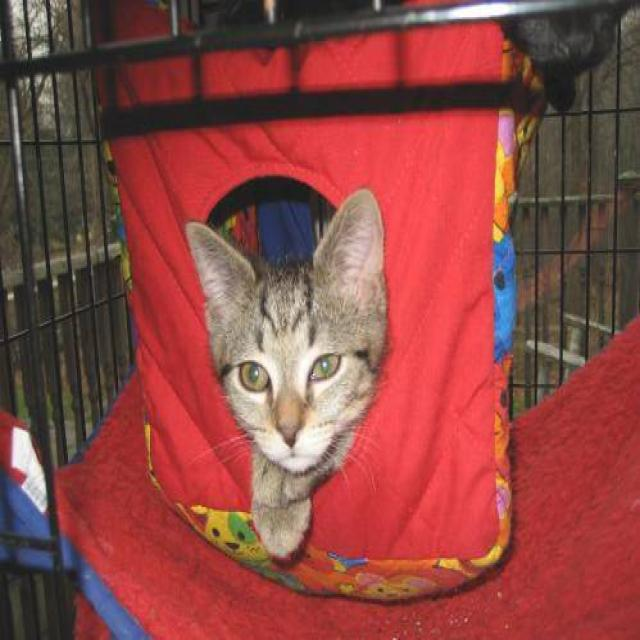cat: (183, 186, 390, 565)
